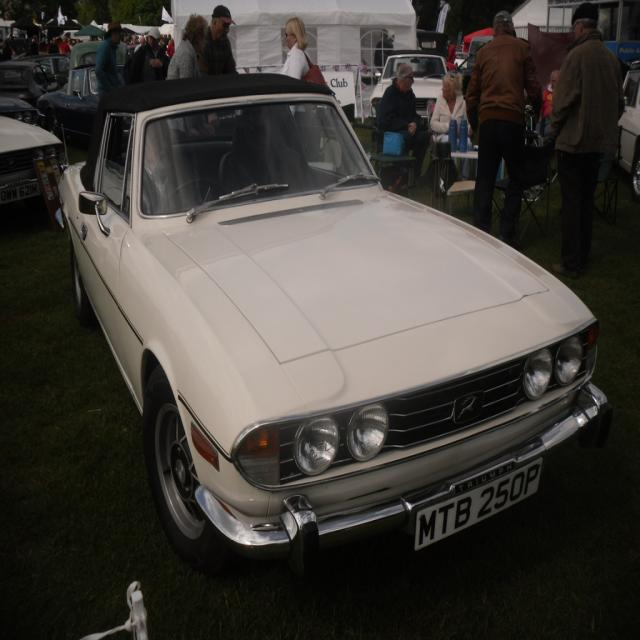car: (59, 74, 610, 553)
